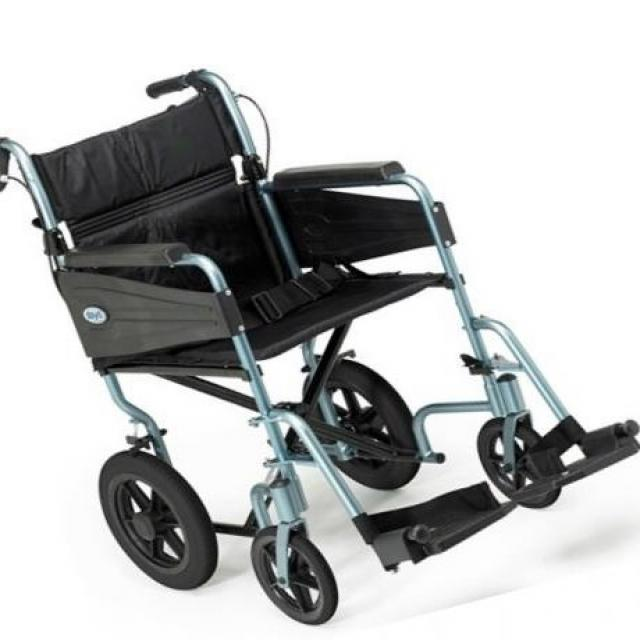wheelchair: (0, 63, 640, 626)
